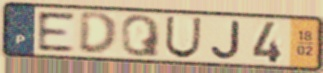4: (250, 19, 286, 65)
D: (76, 11, 120, 58)
E: (35, 11, 77, 53)
J: (208, 19, 243, 61)
Q: (119, 13, 163, 58)
U: (163, 15, 204, 60)
